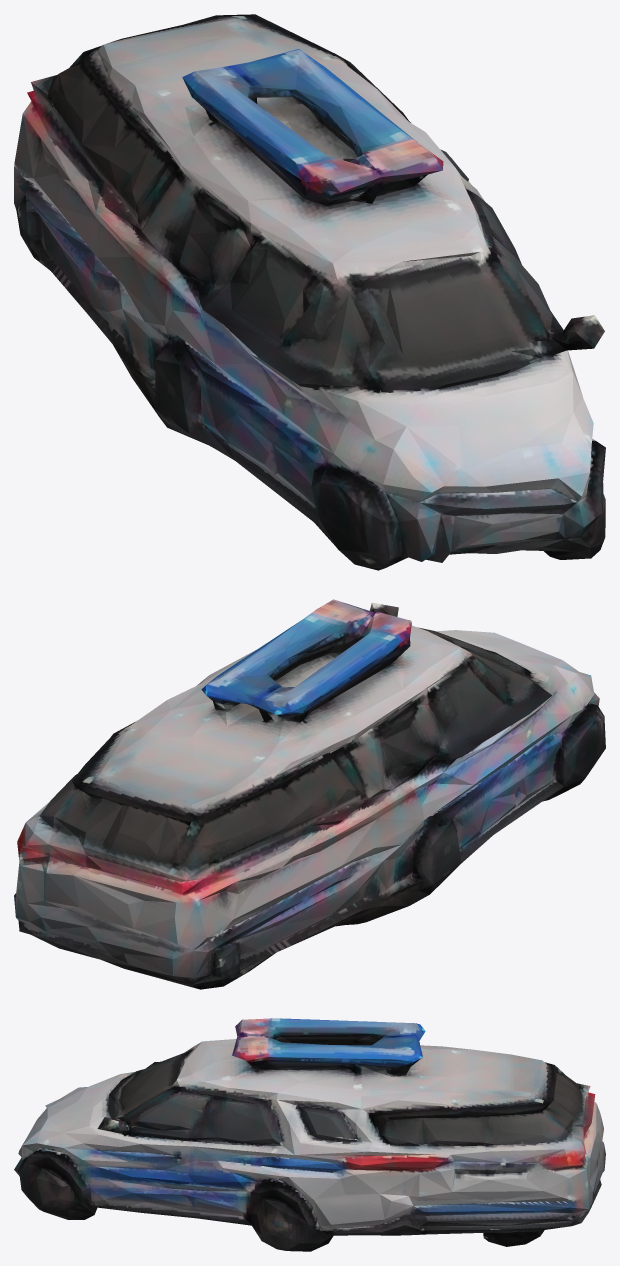
The model's file is police-car-lod1.obj.
3 renders of one model, top to bottom at view 1: azimuth 30°, elevation 25°; view 2: azimuth 150°, elevation 25°; view 3: azimuth 270°, elevation 25°, orthographic. The views are drawn at different scales.
Size of the model in its own units: 1.9 by 1.49 by 4.61.
Materials: 1 (1 with a texture image).
